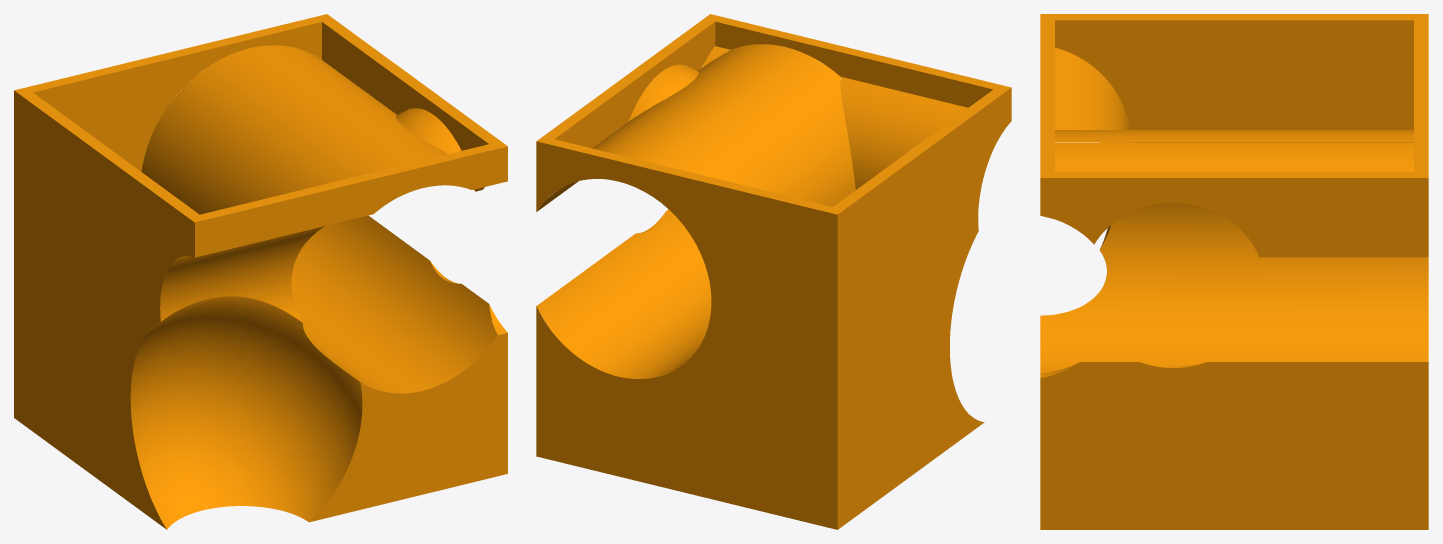
3 renders of one model, left to right at view 1: azimuth 30°, elevation 25°; view 2: azimuth 150°, elevation 25°; view 3: azimuth 270°, elevation 25°, orthographic. The views are drawn at different scales.
Parts seen in each view (by area): view 1: Layer 04; view 2: Layer 04; view 3: Layer 04.
Part boxes in pixels (x1,y1,x2,y2): Layer 04: (14, 14, 507, 529); Layer 04: (536, 14, 1011, 529); Layer 04: (1040, 14, 1428, 529).
Bounding box in the file's own units: 0.042 × 0.042 × 0.042.
